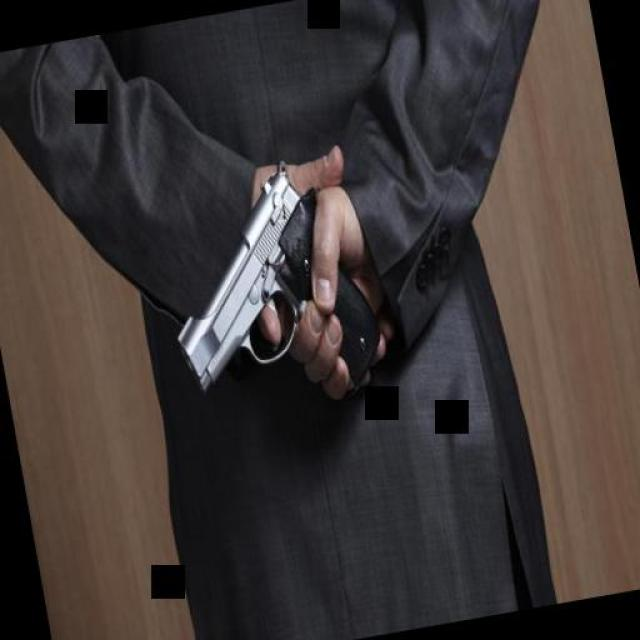gun: (144, 161, 400, 425)
